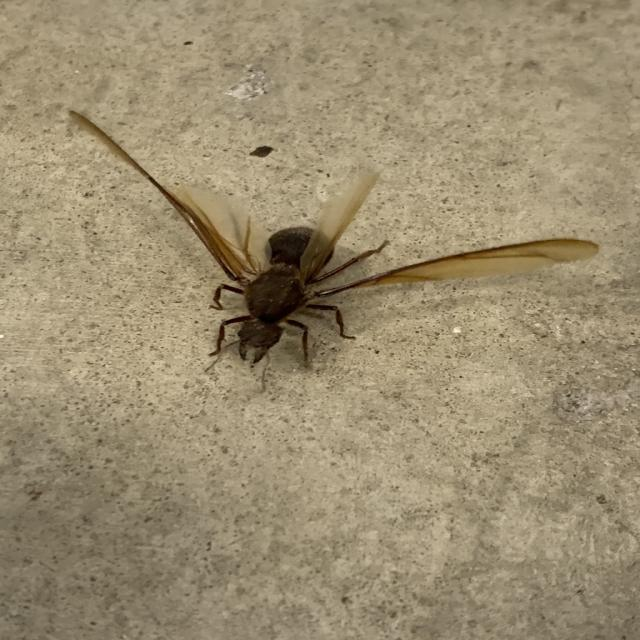Alive-Female-Alate: (69, 110, 601, 394)
